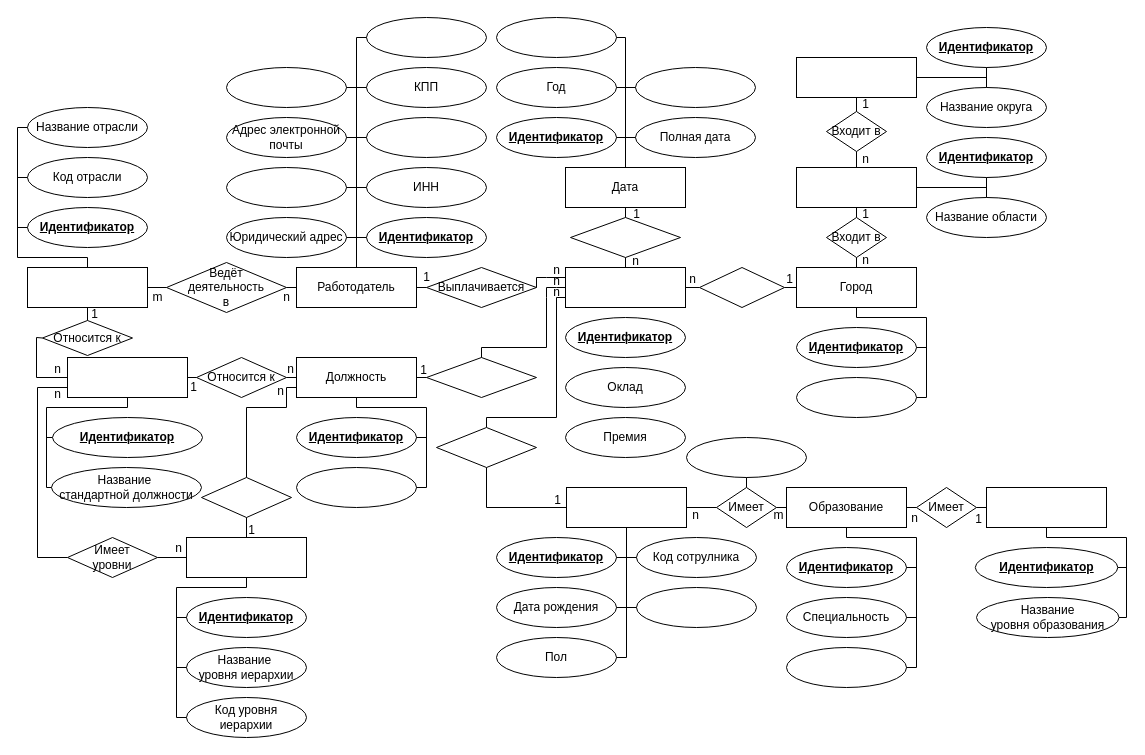
The diagram is 1145 pixels wide and 755 high, and some of its shapes have lost their labels. The shapes that lost their labels are listed below. From the top down, each one's centre as x and y in pixels, then its label:
the point at 426,37: Дата регистрации
the point at 556,37: Месяц
the point at 286,87: Контактный телефон
the point at 695,87: Квартал
the point at 856,77: Федеральный округ
the point at 426,137: ОГРН
the point at 286,187: Веб-страница
the point at 856,187: Область
the point at 625,237: Фиксируется на
the point at 87,287: Отрасль
the point at 625,287: Зарплата
the point at 741,287: Имеет место в
the point at 127,377: Стандартная должность
the point at 481,377: Начисляется за
the point at 856,397: Название города
the point at 486,447: Принадлежит
the point at 746,457: Год окончания
the point at 246,497: Имеет уровень
the point at 356,487: Название должности
the point at 626,507: Сотрудник
the point at 1046,507: Уровень образования
the point at 246,557: Уровень иерархии
the point at 696,607: Дата начала карьеры
the point at 846,667: Код специальности
